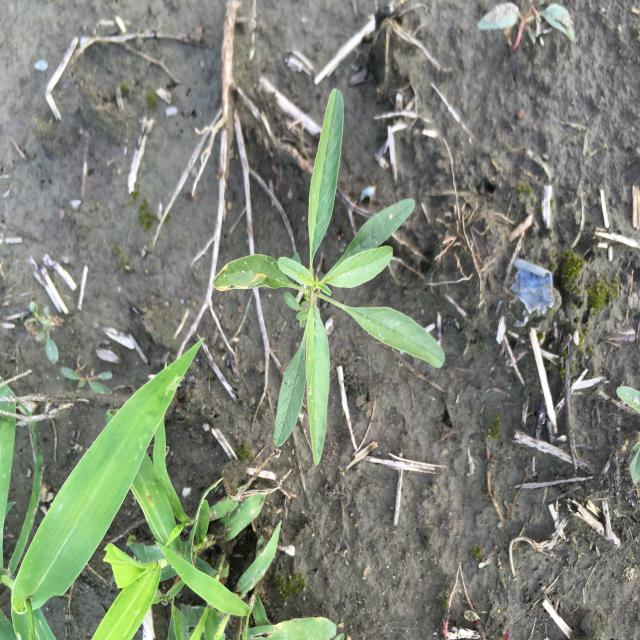Waterhemp: (211, 87, 447, 467)
